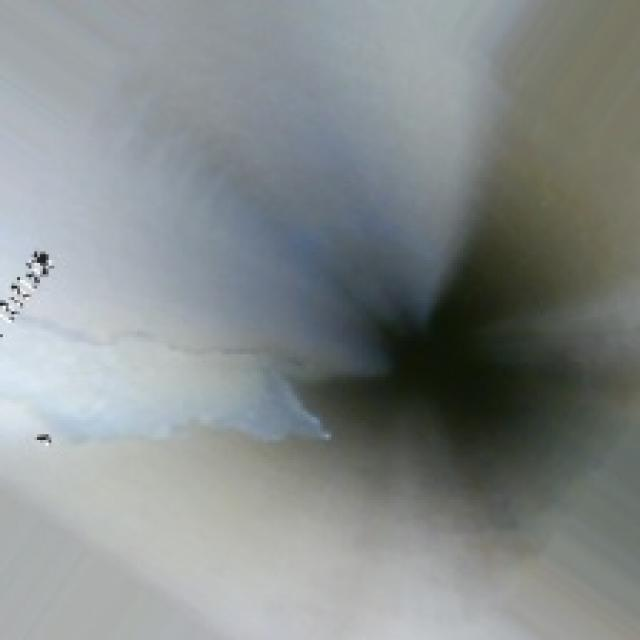pipe_surface_damage: (68, 326, 343, 443)
